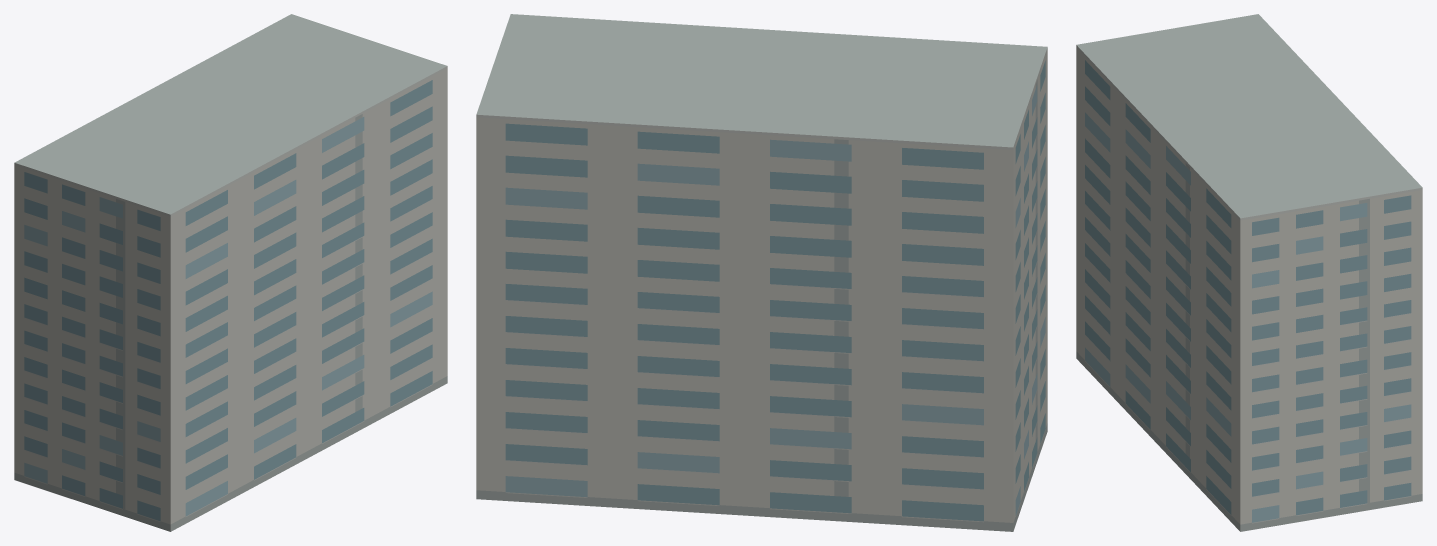
File: residential-8e11846a-f381-461d-9cd1-32c1e6d353cd.glb
3 renders of one model, left to right at view 1: azimuth 30°, elevation 25°; view 2: azimuth 150°, elevation 25°; view 3: azimuth 270°, elevation 25°, orthographic. The views are drawn at different scales.
Visible parts, largest first — view 1: residential-8e11846a-f381-461d-9cd1-32c1e6d353cd.tmp; view 2: residential-8e11846a-f381-461d-9cd1-32c1e6d353cd.tmp; view 3: residential-8e11846a-f381-461d-9cd1-32c1e6d353cd.tmp.
Boxes of the visible parts, left/top/right/bottom form: residential-8e11846a-f381-461d-9cd1-32c1e6d353cd.tmp: left=14, top=14, right=447, bottom=531; residential-8e11846a-f381-461d-9cd1-32c1e6d353cd.tmp: left=476, top=14, right=1047, bottom=531; residential-8e11846a-f381-461d-9cd1-32c1e6d353cd.tmp: left=1076, top=14, right=1422, bottom=531.
Bounding box in the file's own units: 48.95 × 35 × 35.07.
